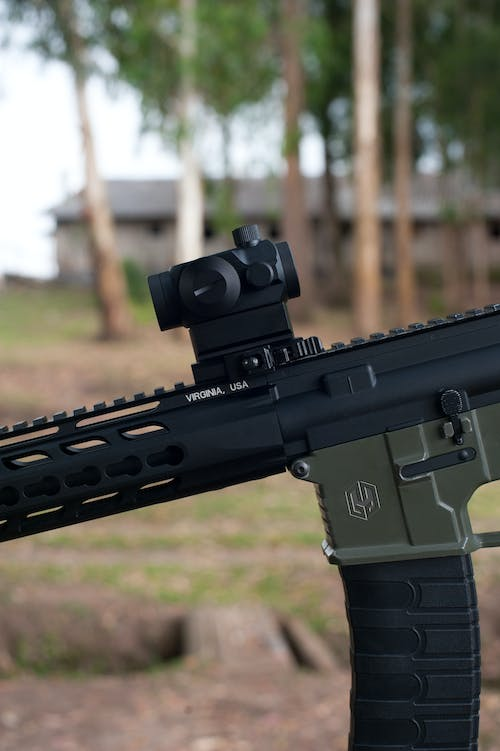gun: (0, 219, 500, 751)
